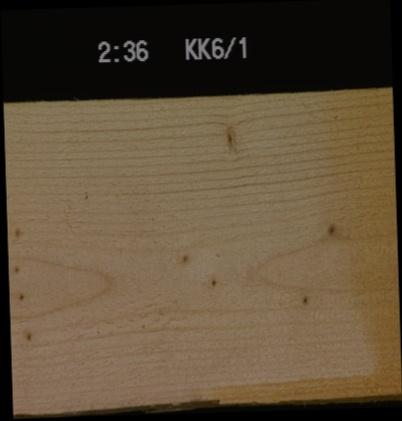small_knot: (315, 212, 346, 237), (218, 120, 241, 152), (6, 218, 27, 244), (7, 284, 33, 303), (293, 290, 314, 308), (206, 269, 223, 290), (21, 325, 38, 342), (176, 250, 194, 266), (7, 262, 23, 277)
wave: (136, 371, 398, 405)
